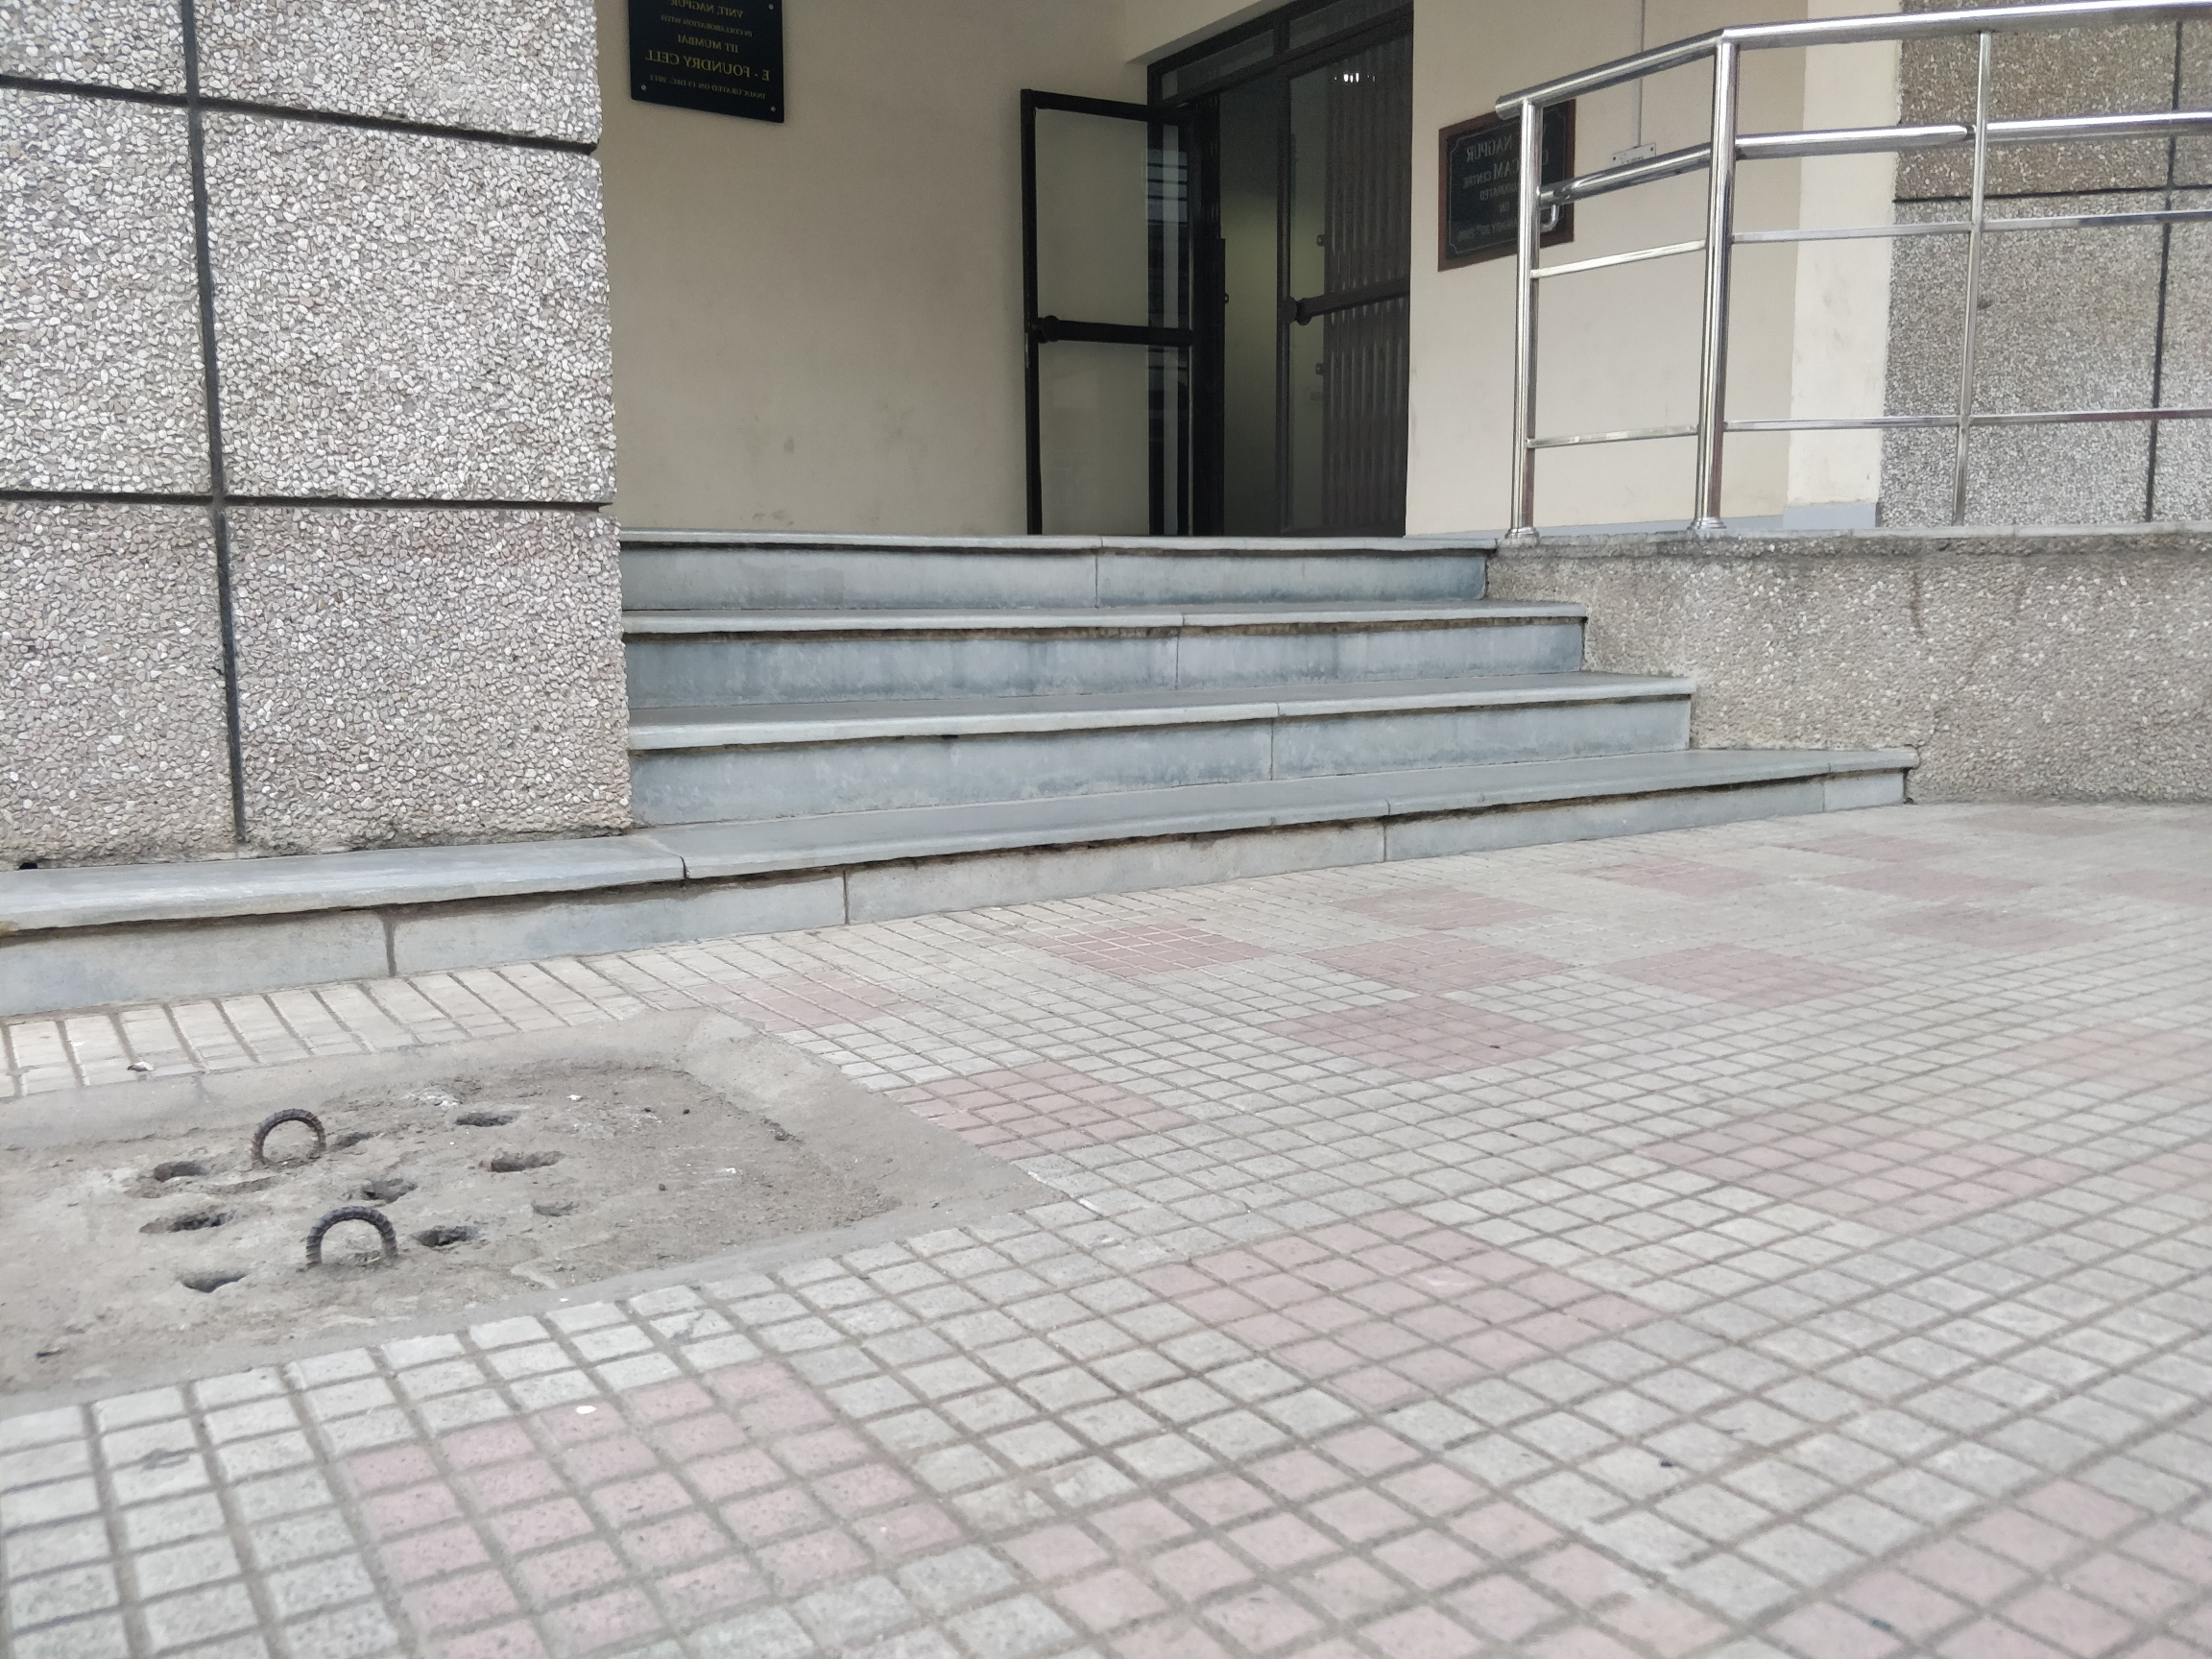stairs_up: (632, 526, 1750, 889)
